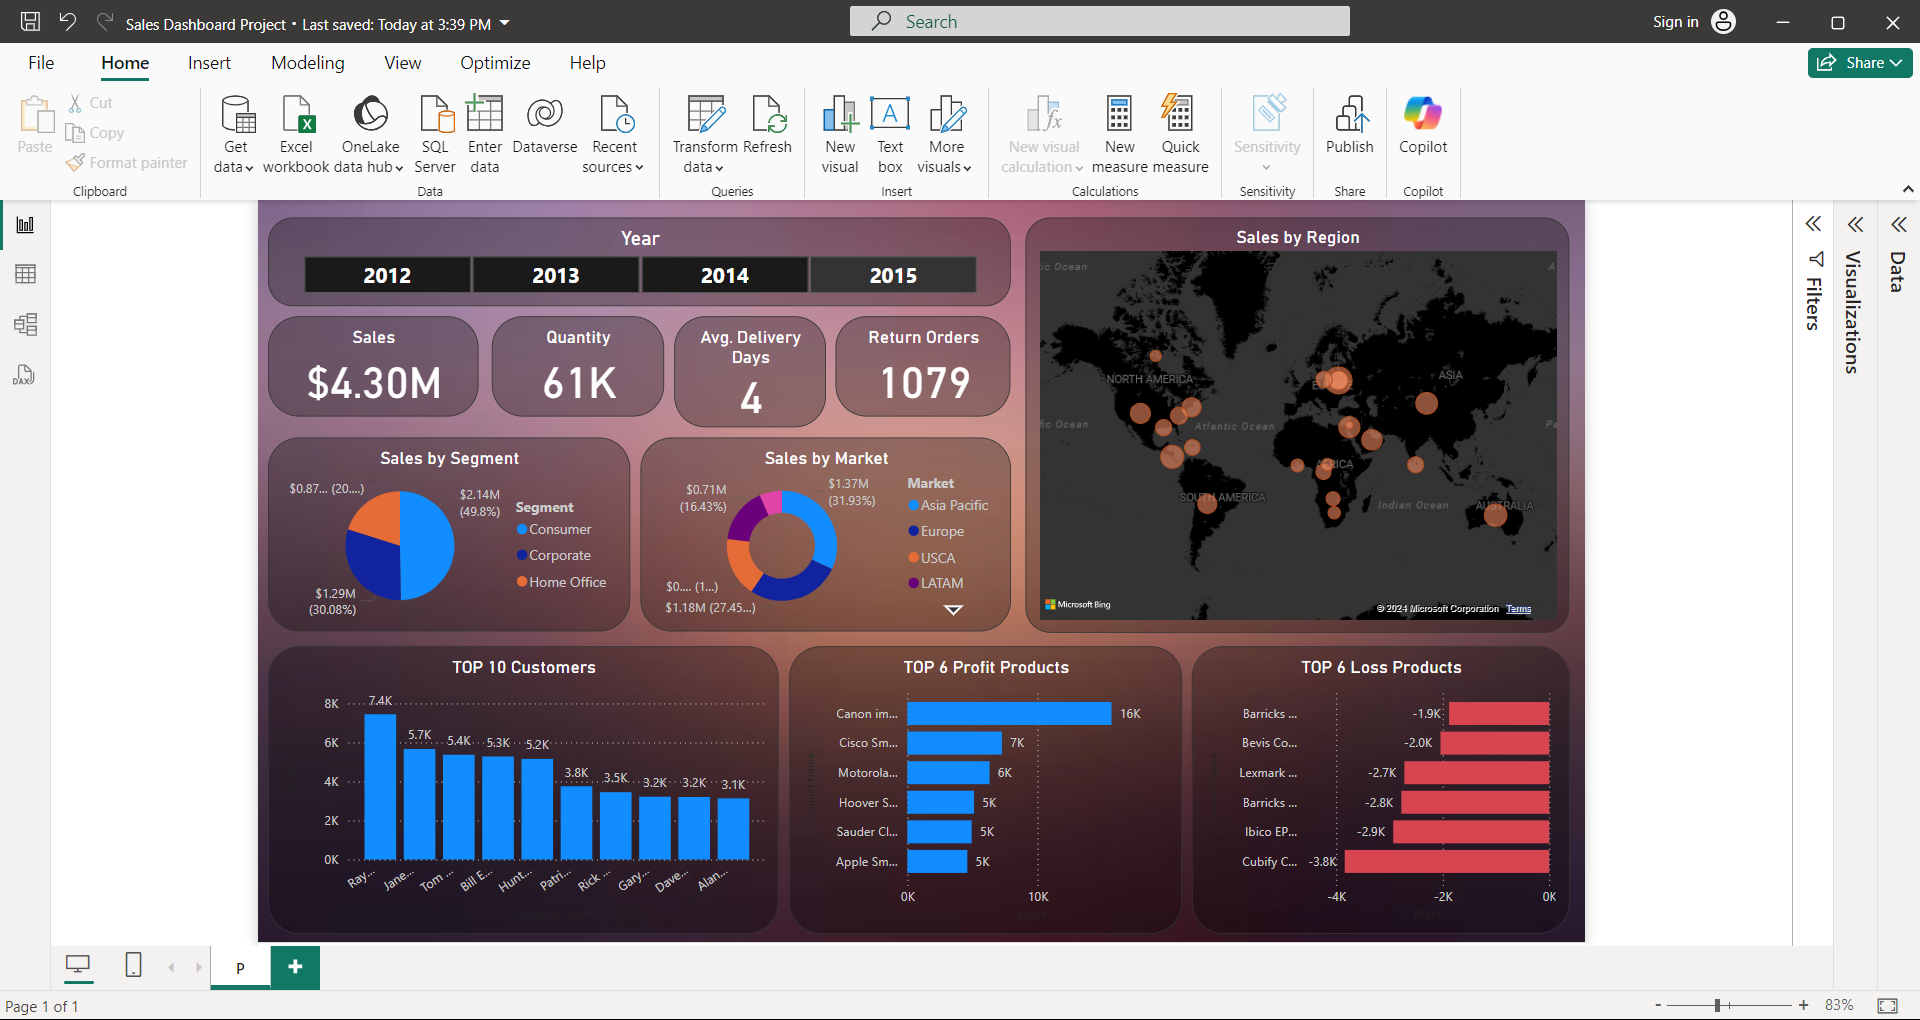

Layout of this report page (visuals, bound fields, positions):
{"tool":"powerbi","page":{"name":"P","canvas":[1280,720],"ordinal":0},"visuals":[{"type":"card","title":"Sales","fields":{"Values":["Orders.Sales"]},"box":[9.9,112.7,202.8,97.2],"z":0},{"type":"card","title":"Quantity","fields":{"Values":["Orders.Quantity"]},"box":[225.4,112.7,166.2,97.2],"z":1000},{"type":"card","title":"Avg. Delivery Days","fields":{"Values":["Orders.Delivery Days"]},"box":[401.4,112.7,146.5,107],"z":2000},{"type":"slicer","title":"Year","fields":{"Values":["Orders.Year"]},"box":[9.9,16.9,716.9,85.9],"z":3000},{"type":"card","title":"Return Orders","fields":{"Values":["Returns.Return Orders"]},"box":[557.7,112.7,169,97.2],"z":4000},{"type":"map","fields":{"Category":["Orders.Region"],"Size":["Orders.Sales"]},"box":[740.8,16.9,524.8,400.5],"z":5000},{"type":"barChart","title":"TOP 6 Profit  Products","fields":{"Category":["Orders.Product Name"],"Y":["Orders.Profit"]},"box":[512.7,431,378.9,277.5],"z":6000},{"type":"barChart","title":"TOP 6 Loss  Products","fields":{"Category":["Orders.Product Name"],"Y":["Orders.Profit"]},"box":[901.4,431,364.8,277.5],"z":7000},{"type":"pieChart","fields":{"Category":["Orders.Segment"],"Y":["Orders.Sales"]},"box":[9.9,229.6,349.3,187.3],"z":8000},{"type":"donutChart","fields":{"Y":["Orders.Sales"],"Category":["Orders.Market"]},"box":[369,229.6,357.7,187.3],"z":9000},{"type":"columnChart","title":"TOP 10 Customers","fields":{"Y":["Orders.Profit"],"Category":["Orders.Customer Name"]},"box":[9.9,431,493,277.5],"z":10000}]}

Visuals, with their boxes on the page's 1280x720 design canvas (x1, y1, x2, y2). These are canvas units, not pixel positions in the 1920x1020 screenshot, which may show the page scaled, cropped or inside an application window:
"Sales" card: select_region(10, 113, 213, 210)
"Quantity" card: select_region(225, 113, 392, 210)
"Avg. Delivery Days" card: select_region(401, 113, 548, 220)
"Year" slicer: select_region(10, 17, 727, 103)
"Return Orders" card: select_region(558, 113, 727, 210)
map - Orders.Region x Orders.Sales: select_region(741, 17, 1266, 417)
"TOP 6 Profit  Products" barChart: select_region(513, 431, 892, 708)
"TOP 6 Loss  Products" barChart: select_region(901, 431, 1266, 708)
pieChart - Orders.Segment x Orders.Sales: select_region(10, 230, 359, 417)
donutChart - Orders.Sales x Orders.Market: select_region(369, 230, 727, 417)
"TOP 10 Customers" columnChart: select_region(10, 431, 503, 708)
